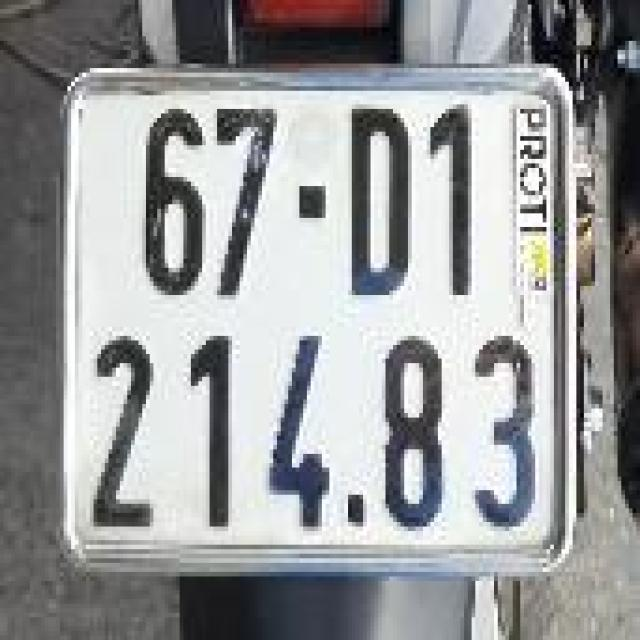1: (428, 90, 499, 308), (178, 327, 245, 554)
2: (80, 320, 166, 547)
3: (458, 322, 548, 554)
4: (254, 311, 337, 547)
6: (135, 86, 217, 291)
7: (208, 75, 279, 293)
8: (365, 327, 451, 536)
D: (333, 79, 423, 311)
